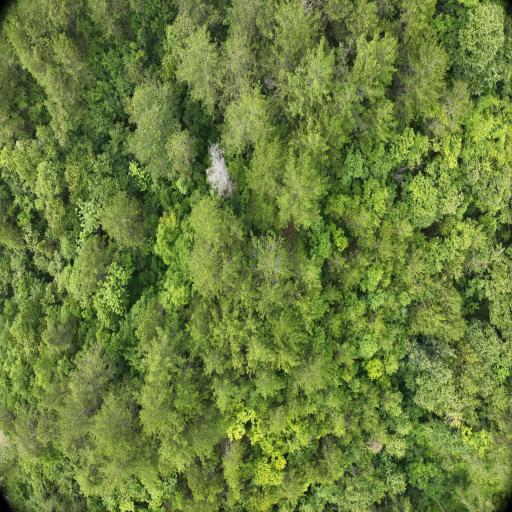dead-tree: (206, 140, 233, 198)
